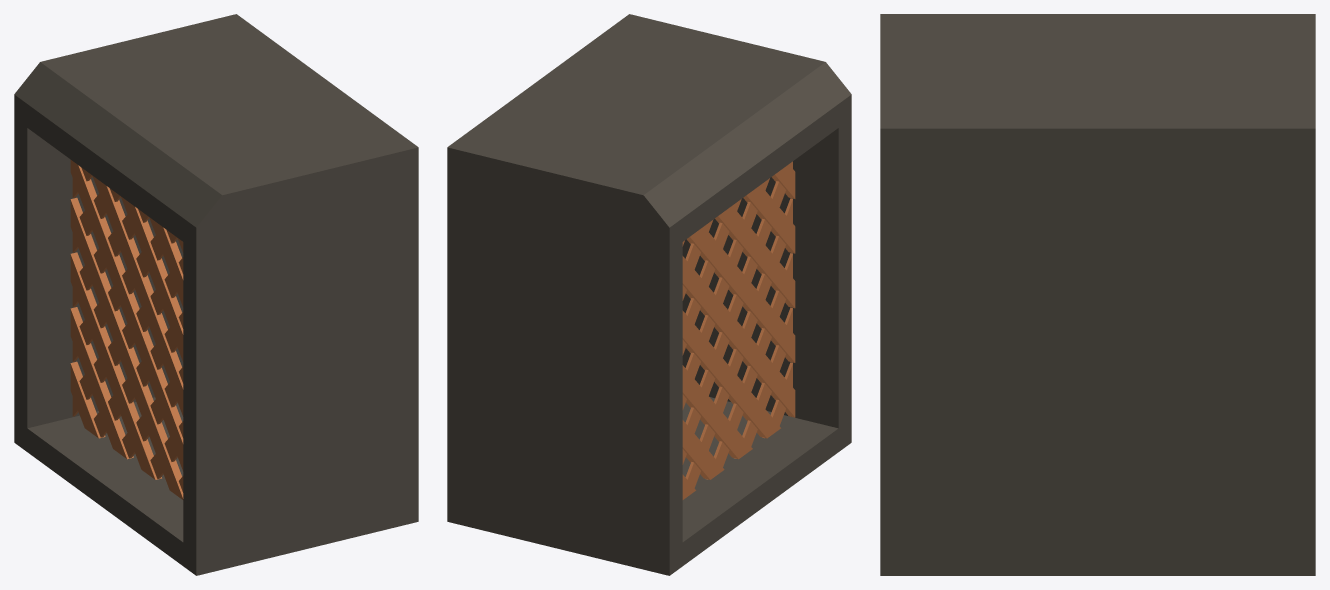
File: delivery.fbx
3 views of the same model, side by side, from view 1: azimuth 30°, elevation 25°; view 2: azimuth 150°, elevation 25°; view 3: azimuth 270°, elevation 25° (orthographic). The views are drawn at different scales.
Visible parts, largest first — view 1: elevator, grid; view 2: elevator, grid; view 3: elevator.
Part boxes in pixels (x1,y1,x2,y2): elevator: [14, 14, 418, 575]; grid: [70, 160, 183, 499]; elevator: [447, 14, 851, 575]; grid: [682, 161, 795, 499]; elevator: [880, 14, 1315, 575].
Bounding box in the file's own units: 0.6677 × 1.07 × 0.9477.
